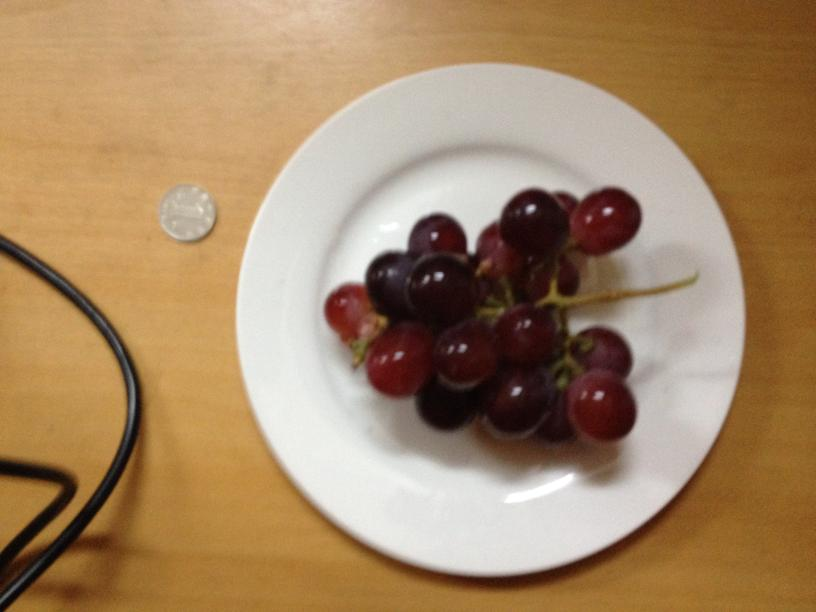coin: (157, 185, 215, 241)
grape: (322, 177, 642, 443)
